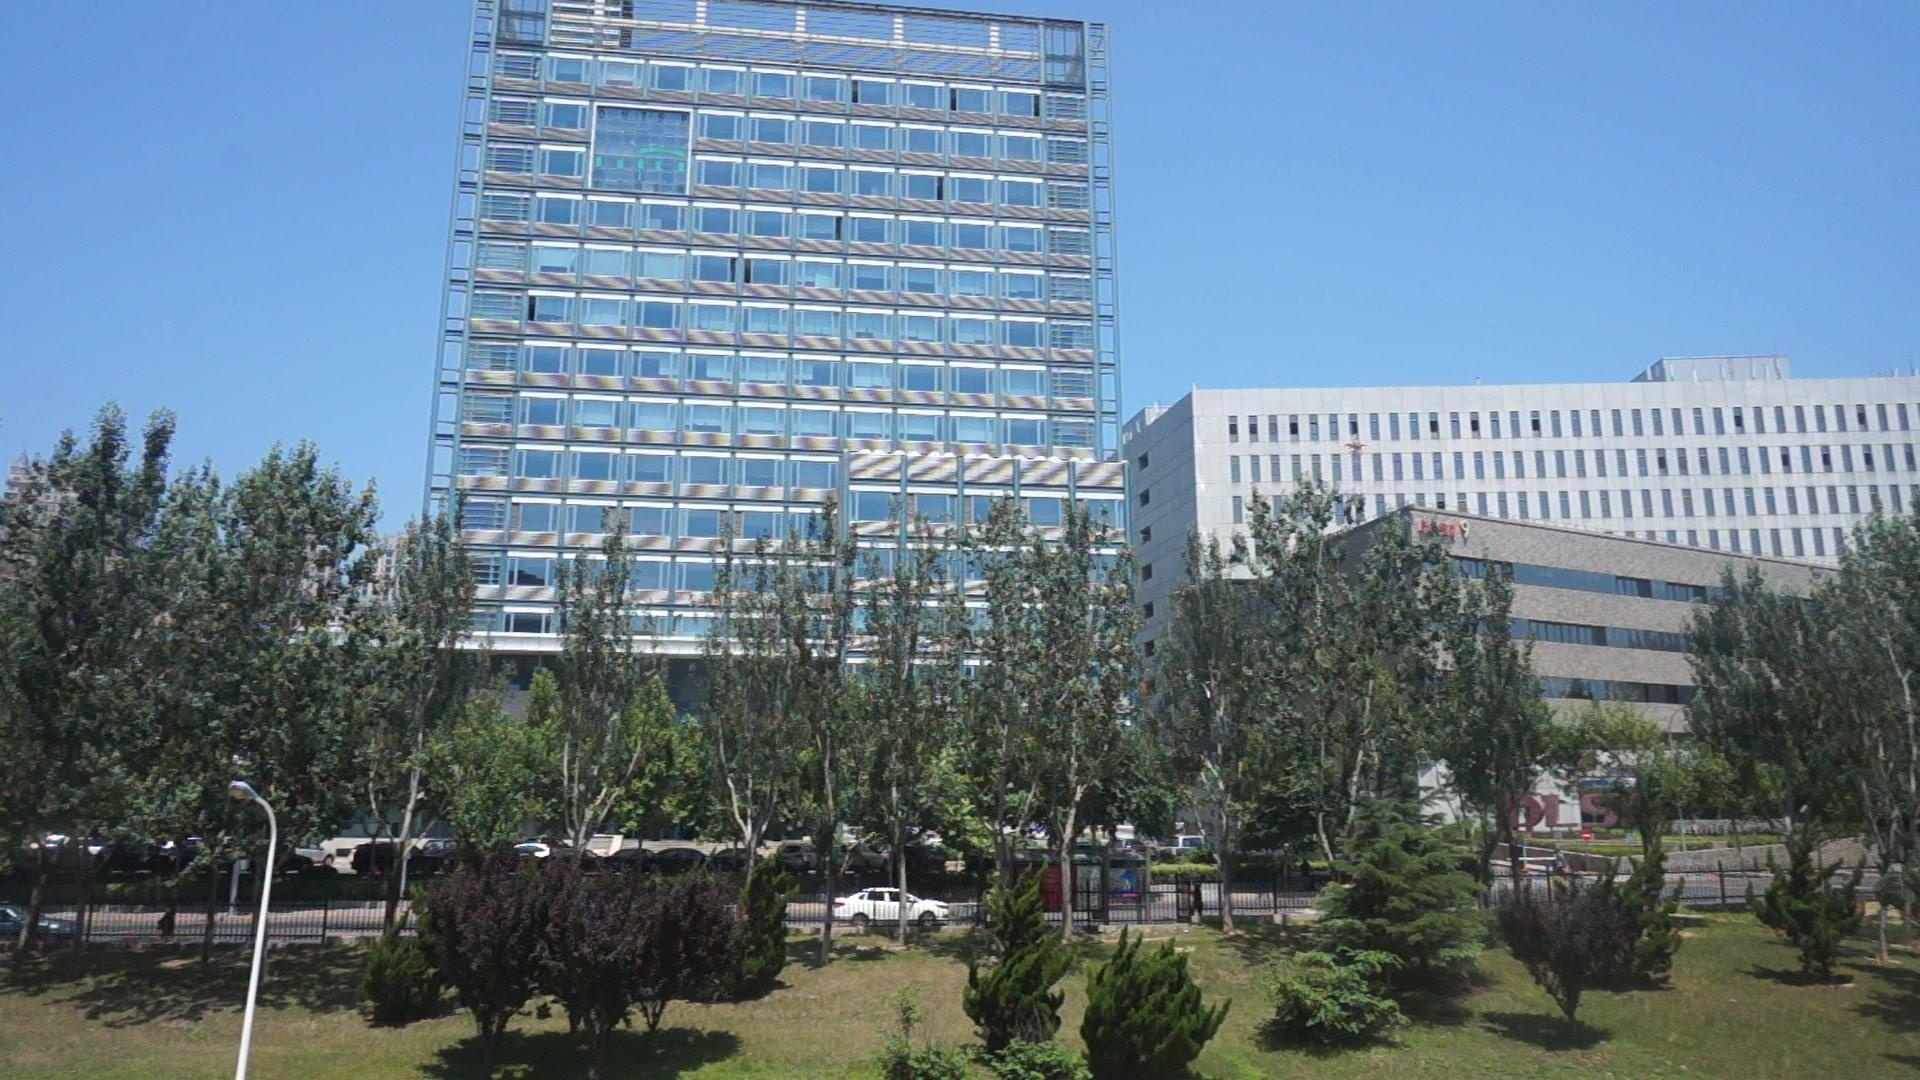UAV: (1344, 440, 1371, 454)
